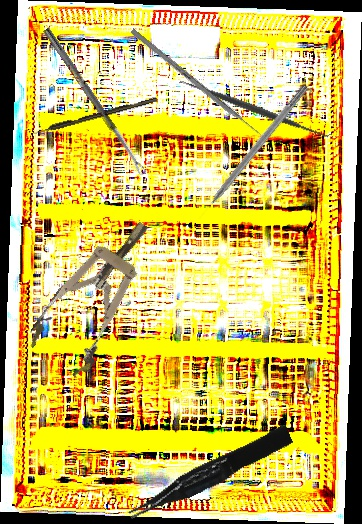Hook Surgical: (194, 82, 310, 222), (32, 96, 158, 136)
Pusher: (129, 28, 271, 144)
Spatula Surgical: (177, 71, 334, 147)
Speculum: (22, 205, 175, 382)
Surgical Spoon: (42, 27, 147, 177)
Tissue Forceps: (121, 424, 297, 523)
